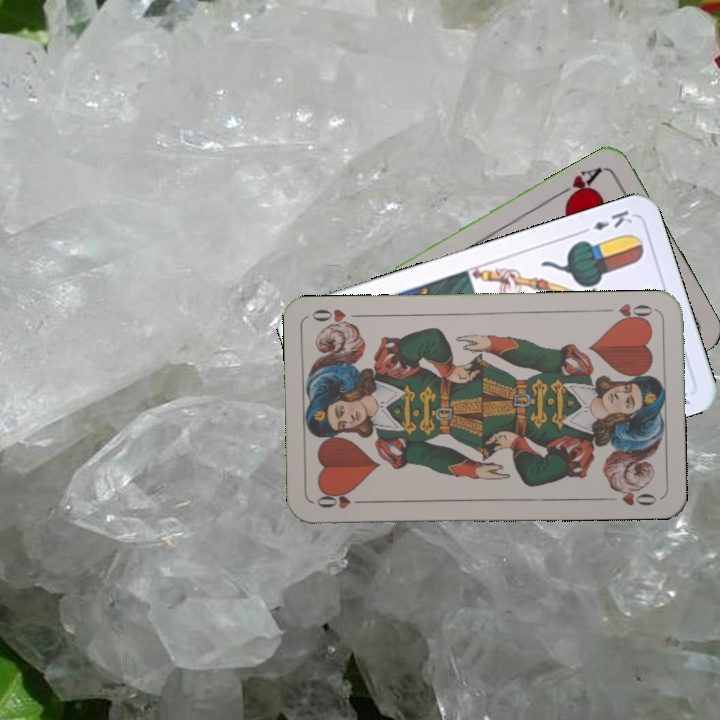EK: (576, 206, 635, 237)
HA: (553, 163, 607, 207)
HO: (598, 300, 657, 325), (312, 488, 370, 511)
